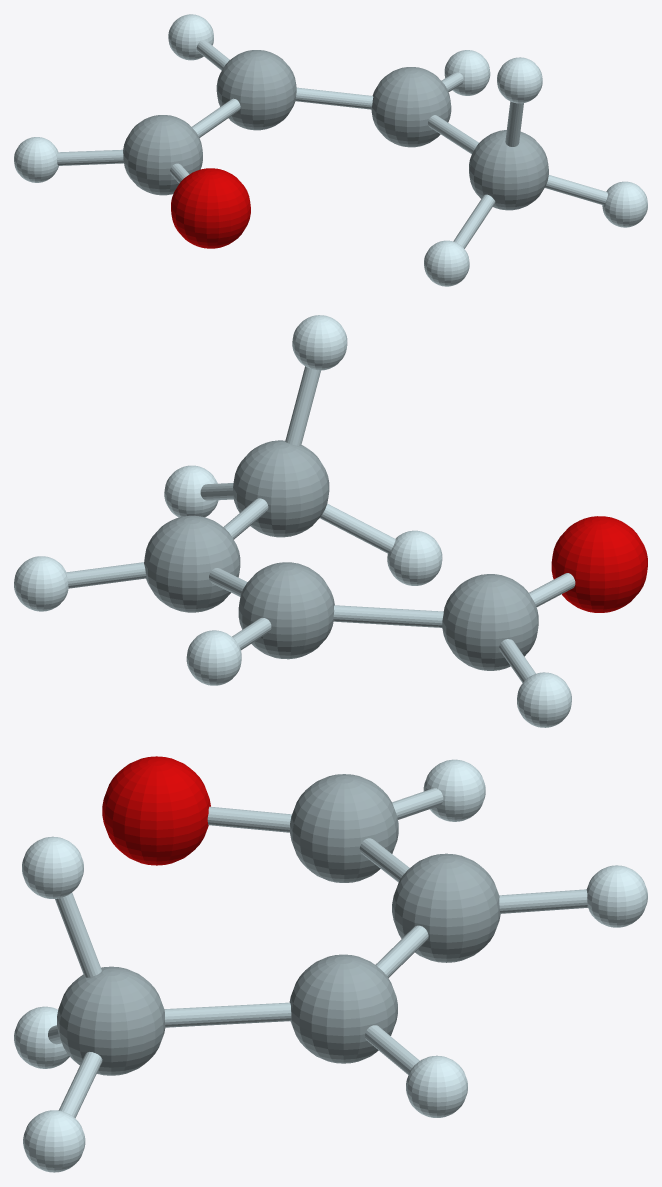
The model's file is irc_028.glb.
The picture shows the model from 3 angles, top to bottom: view 1: azimuth 30°, elevation 25°; view 2: azimuth 150°, elevation 25°; view 3: azimuth 270°, elevation 25°; orthographic projection. The views are drawn at different scales.
Visible parts, largest first — view 1: Renderer Node; view 2: Renderer Node; view 3: Renderer Node.
Part boxes in pixels (<box>): Renderer Node: <box>14,14,647,286</box>; Renderer Node: <box>14,315,647,727</box>; Renderer Node: <box>14,756,647,1172</box>.
Bounding box in the file's own units: 4.81 × 1.95 × 4.06.
